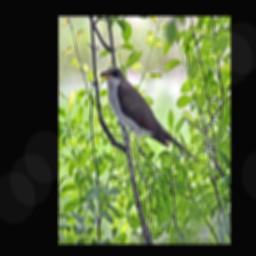Cuckoo: (98, 66, 199, 167)
